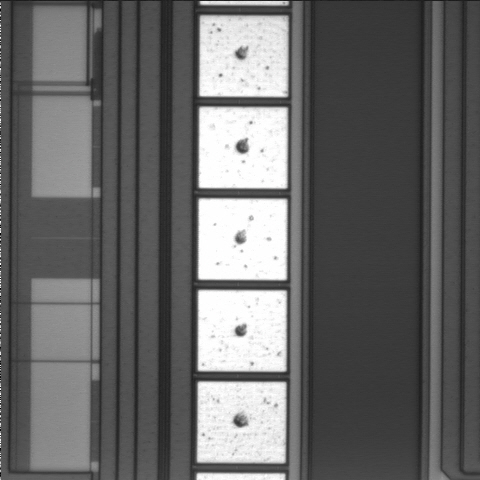pad: (199, 107, 288, 189), (198, 198, 287, 280), (198, 290, 287, 372), (199, 16, 288, 97), (197, 382, 286, 463)
